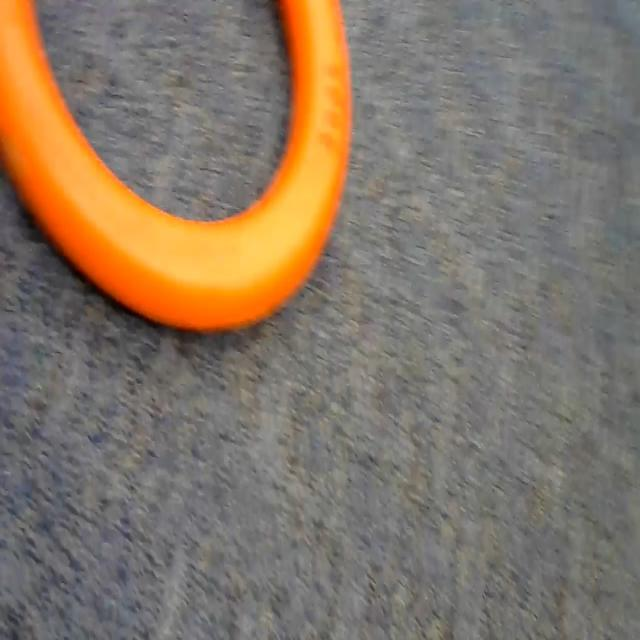note: (0, 0, 367, 357)
